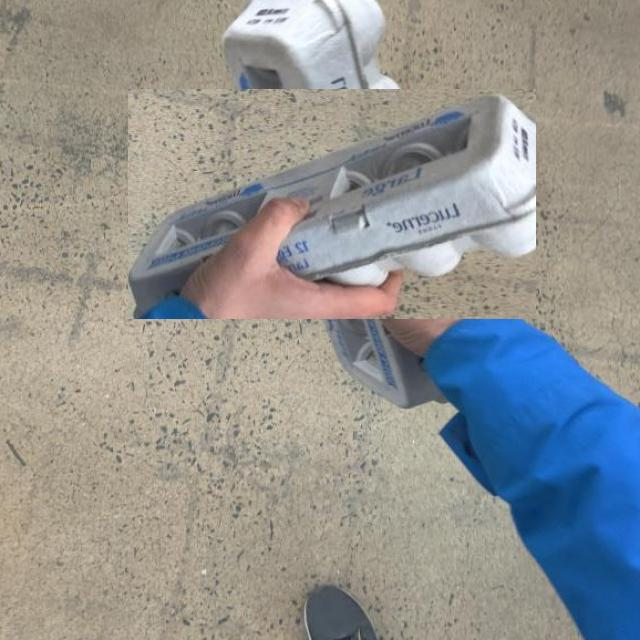Eggs: (128, 89, 536, 319)
